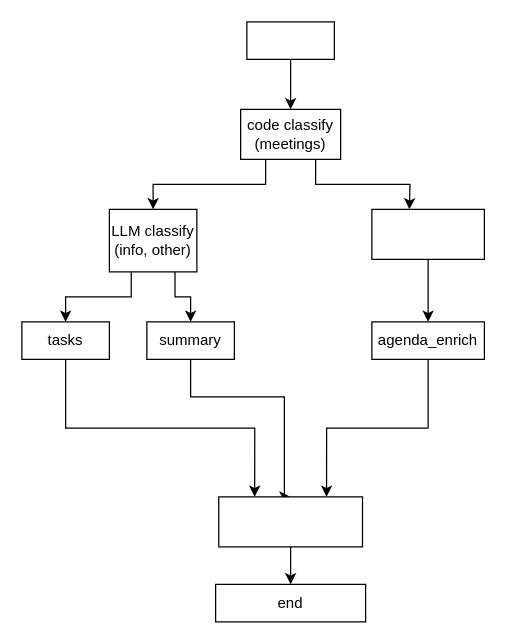
The diagram is 506 pixels wide and 644 high, and some of its shapes have lost their labels. Here are the shapes that lost their labels. From the top down, the centre of each, then its label:
At (x=290, y=40): "start".
At (x=427, y=233): "Agenda_base".
At (x=290, y=521): "summarization to report".
